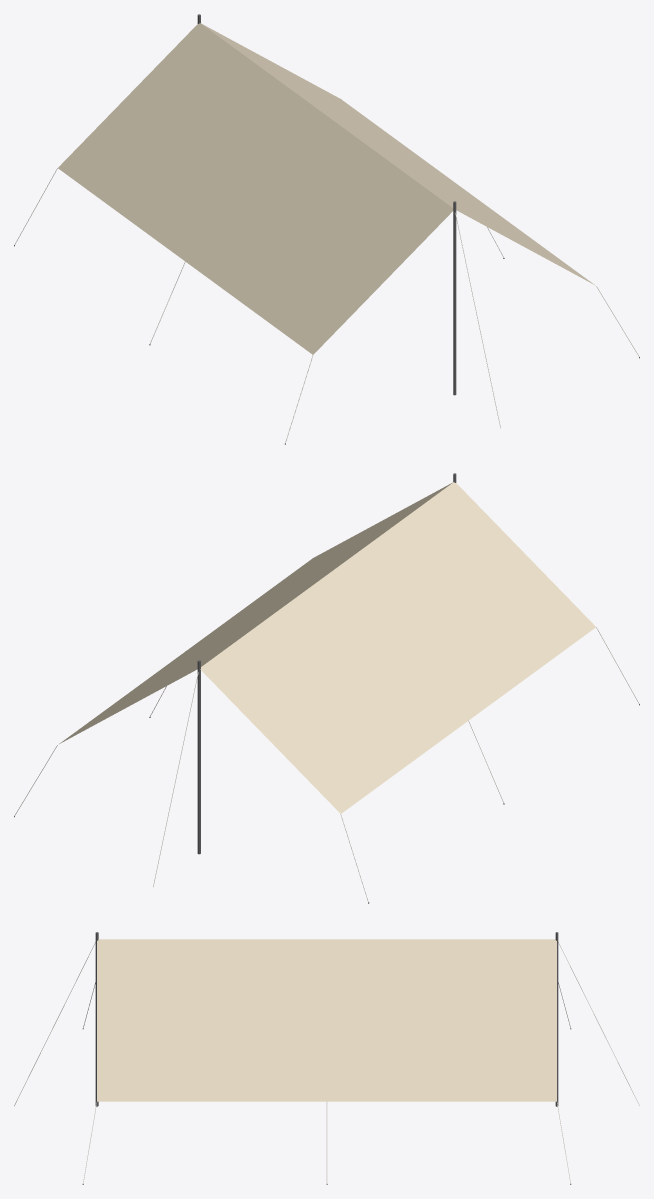
Rendered from g_atarp.glb.
The picture shows the model from 3 angles, top to bottom: view 1: azimuth 30°, elevation 25°; view 2: azimuth 150°, elevation 25°; view 3: azimuth 270°, elevation 25°; orthographic projection. The views are drawn at different scales.
Visible parts, largest first — view 1: roof, roof_1, frame_2; view 2: roof, roof_1, frame; view 3: roof_1, frame_2, frame.
Part boxes in pixels (<box>): roof: <box>58,23,453,354</box>; roof_1: <box>201,23,595,285</box>; frame_2: <box>453,201,456,395</box>; roof: <box>200,482,595,813</box>; roof_1: <box>59,482,452,743</box>; frame: <box>197,660,200,854</box>; roof_1: <box>97,939,556,1101</box>; frame_2: <box>95,932,98,1106</box>; frame: <box>555,932,558,1106</box>.
Bounding box in the file's own units: 4.01 × 2.09 × 6.81.
